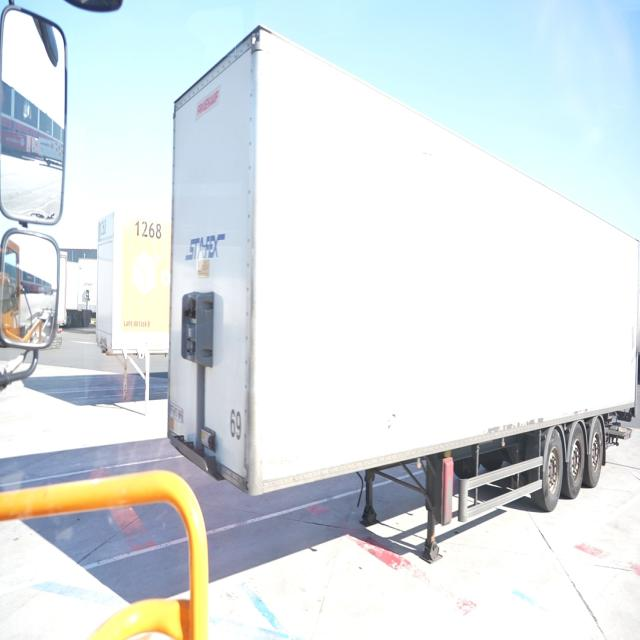Code: (130, 216, 164, 241)
